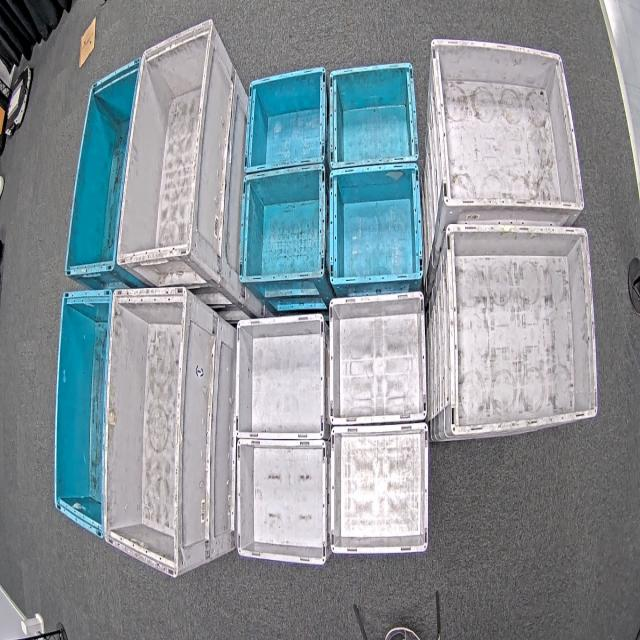Roll3G: (444, 222, 600, 440), (429, 36, 587, 215)
Roll4G: (102, 283, 189, 583), (115, 18, 214, 264)
Roll8G: (328, 288, 430, 556), (234, 313, 329, 566)
RollB4: (62, 55, 143, 277), (51, 288, 115, 542)
RollB8: (330, 58, 424, 288), (237, 59, 328, 286)
